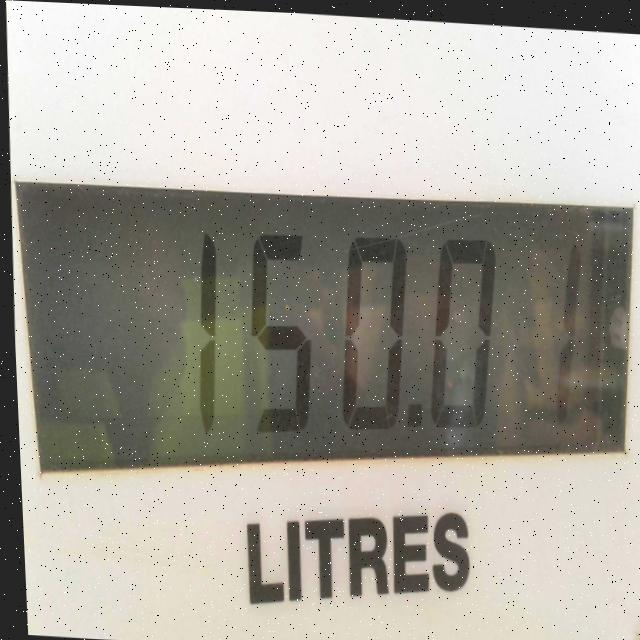.: (386, 371, 434, 458)
0: (415, 220, 517, 462), (318, 198, 412, 448)
1: (164, 217, 247, 437), (520, 225, 591, 446)
5: (225, 221, 334, 455)
